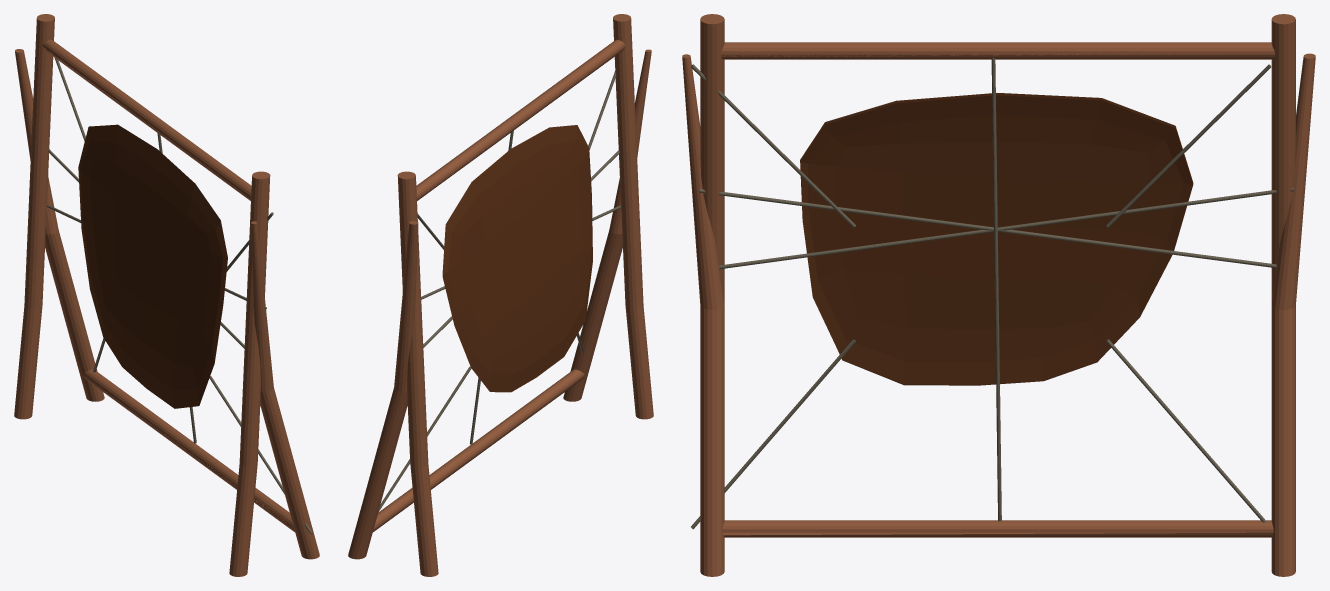
File: Tanning Rack.fbx
3 renders of one model, left to right at view 1: azimuth 30°, elevation 25°; view 2: azimuth 150°, elevation 25°; view 3: azimuth 270°, elevation 25°, orthographic. The views are drawn at different scales.
Visible parts, largest first — view 1: Tanning Rack, Tanning Rack Leather; view 2: Tanning Rack, Tanning Rack Leather; view 3: Tanning Rack Leather, Tanning Rack.
Part boxes in pixels (box(x1,y1,x2,y2)): Tanning Rack: box(14, 14, 319, 576); Tanning Rack Leather: box(78, 124, 227, 408); Tanning Rack: box(348, 14, 653, 576); Tanning Rack Leather: box(442, 125, 592, 392); Tanning Rack Leather: box(800, 93, 1193, 385); Tanning Rack: box(682, 14, 1315, 576).
Bounding box in the file's own units: 356 × 1511 × 1667.
